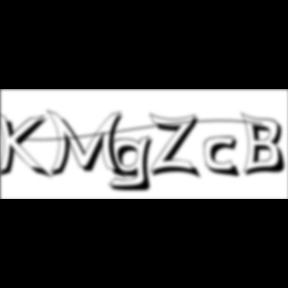K: (0, 110, 54, 182)
M: (46, 108, 130, 181)
Z: (150, 112, 204, 181)
c: (204, 136, 244, 180)
g: (109, 134, 161, 194)
